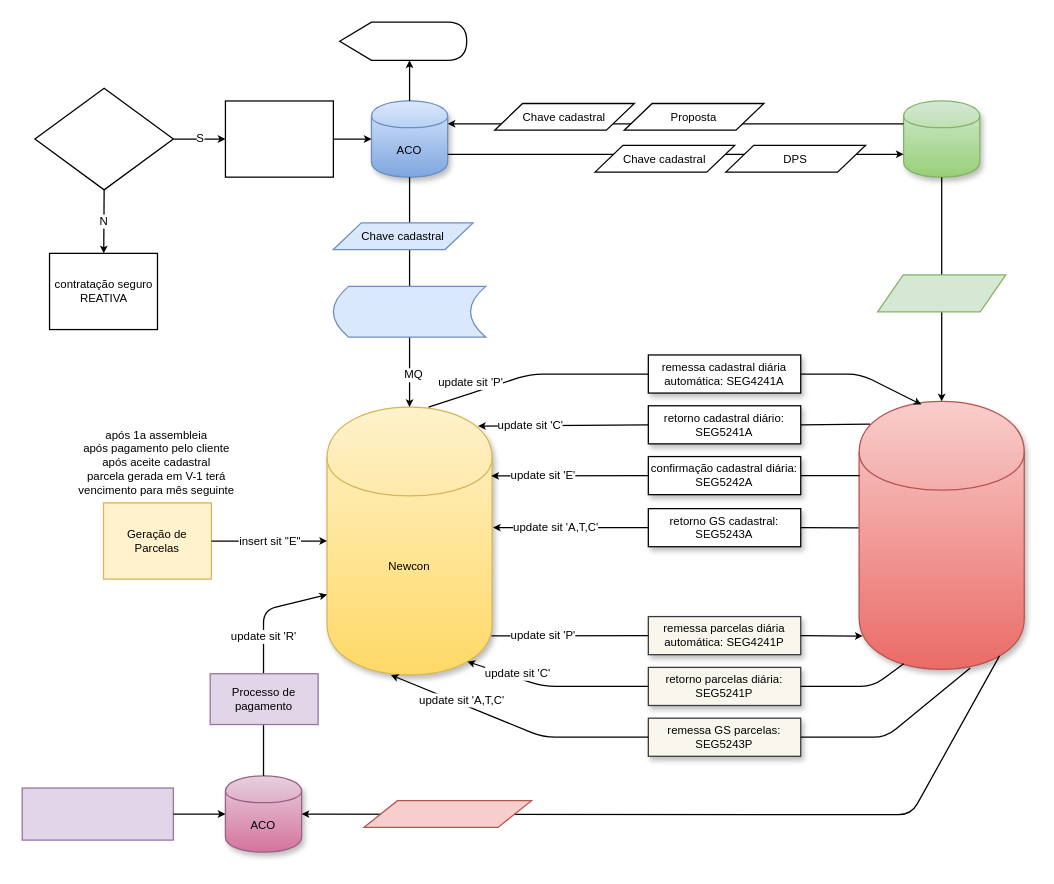
The diagram is 1054 pixels wide and 884 high, and some of its shapes have lost their labels. The shapes that lost their labels are listed below. From the top down, each one's centre as x and y in pixels, then its label:
At pixel 402 40: "Proposta impressa".
At pixel 103 138: "Cota contratada com seguro?".
At pixel 278 138: "contratação seguro ATIVA".
At pixel 942 140: "SEG".
At pixel 409 311: "INSERT seguro sit (E)".
At pixel 941 293: "Confirmação contratações".
At pixel 942 536: "CSys".
At pixel 97 813: "Levantamento parcelas a pagar para AutPag em V-2".
At pixel 447 813: "Dados Faturamento".
